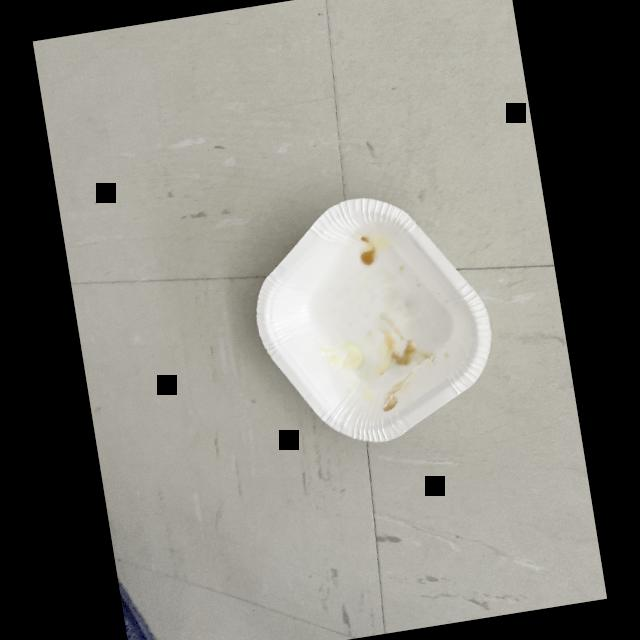cardboard_bowl: (236, 177, 520, 467)
